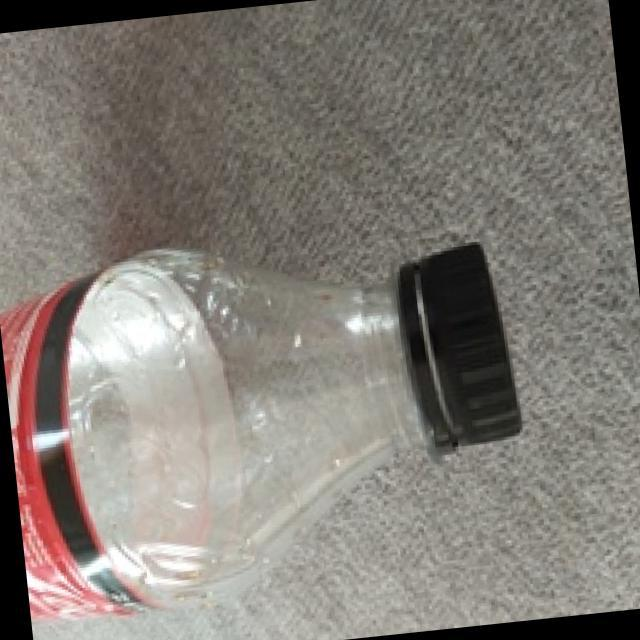good: (0, 221, 532, 623)
